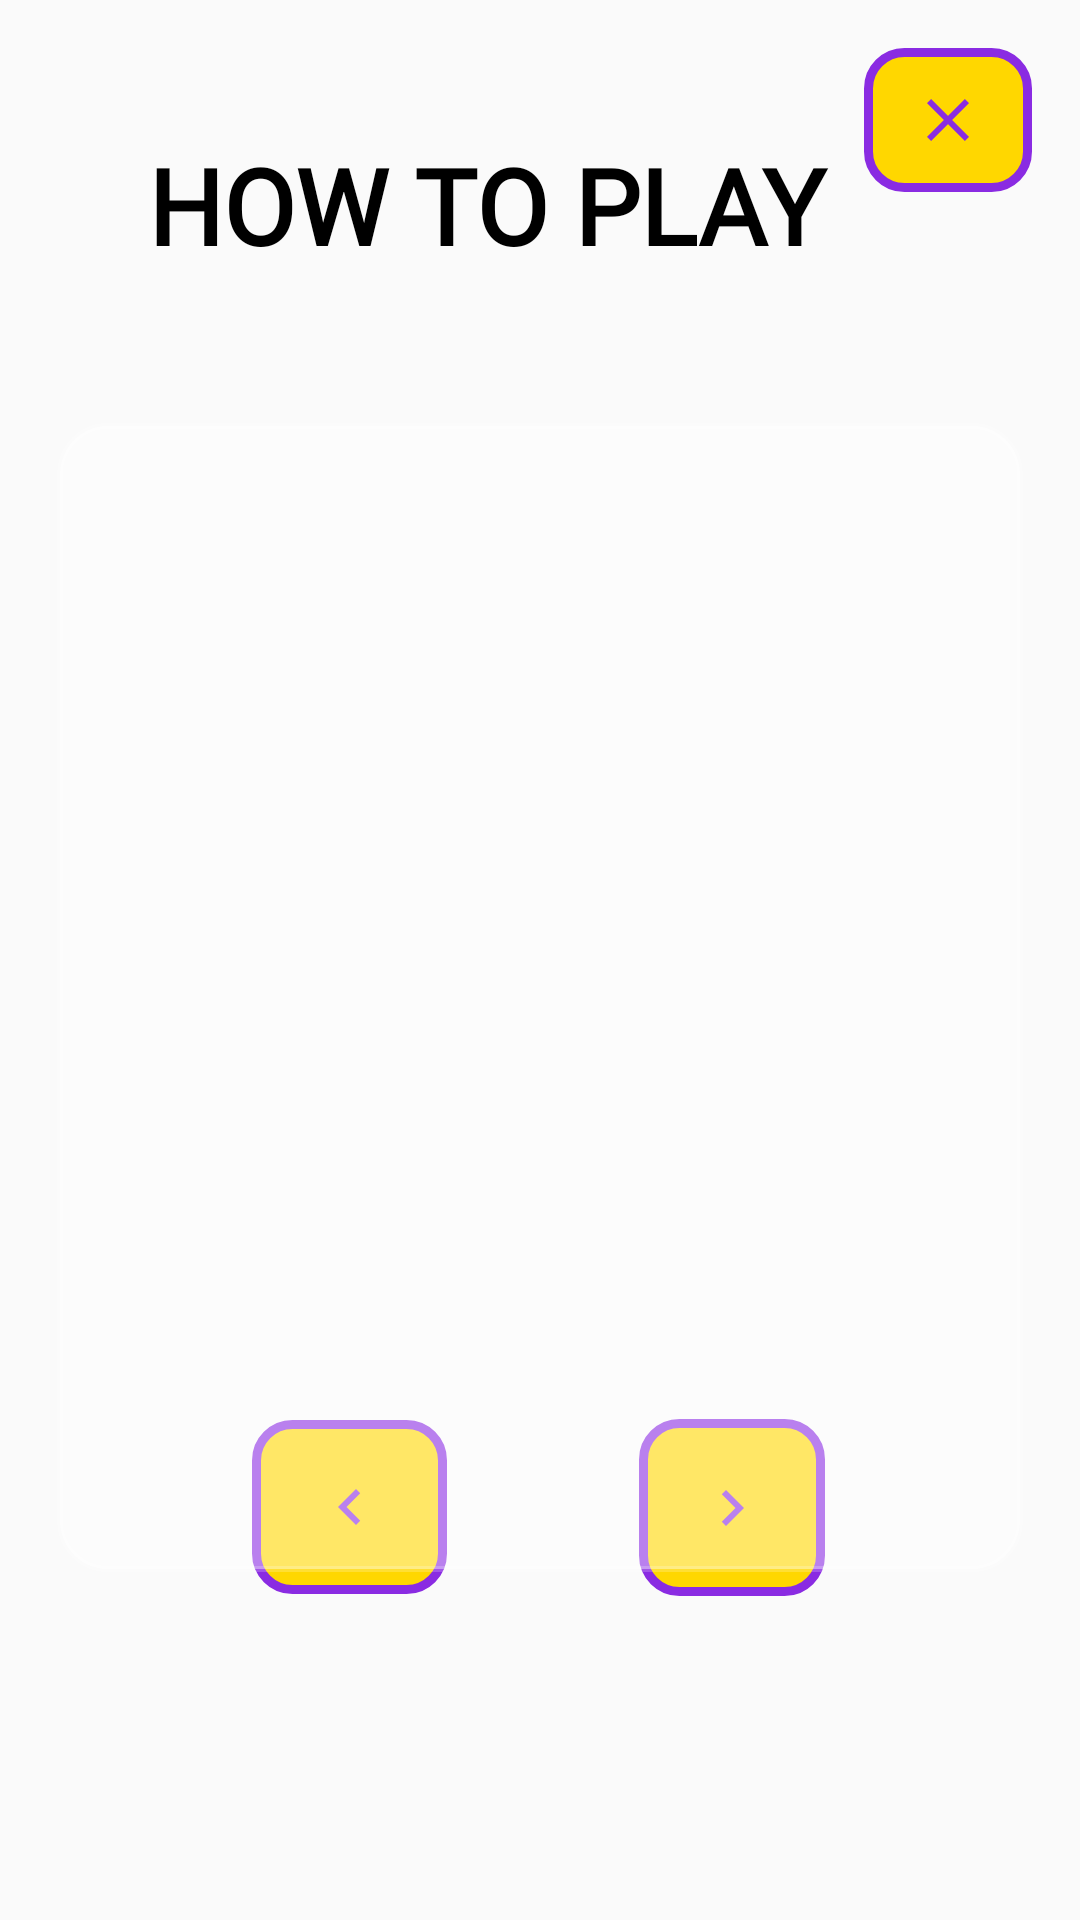

Screen size 1080*1920. Icon name, then its center in pixels as point (x, y):
Next: point (732, 1507)
Previous: point (349, 1507)
Skip Instructions: point (948, 120)
